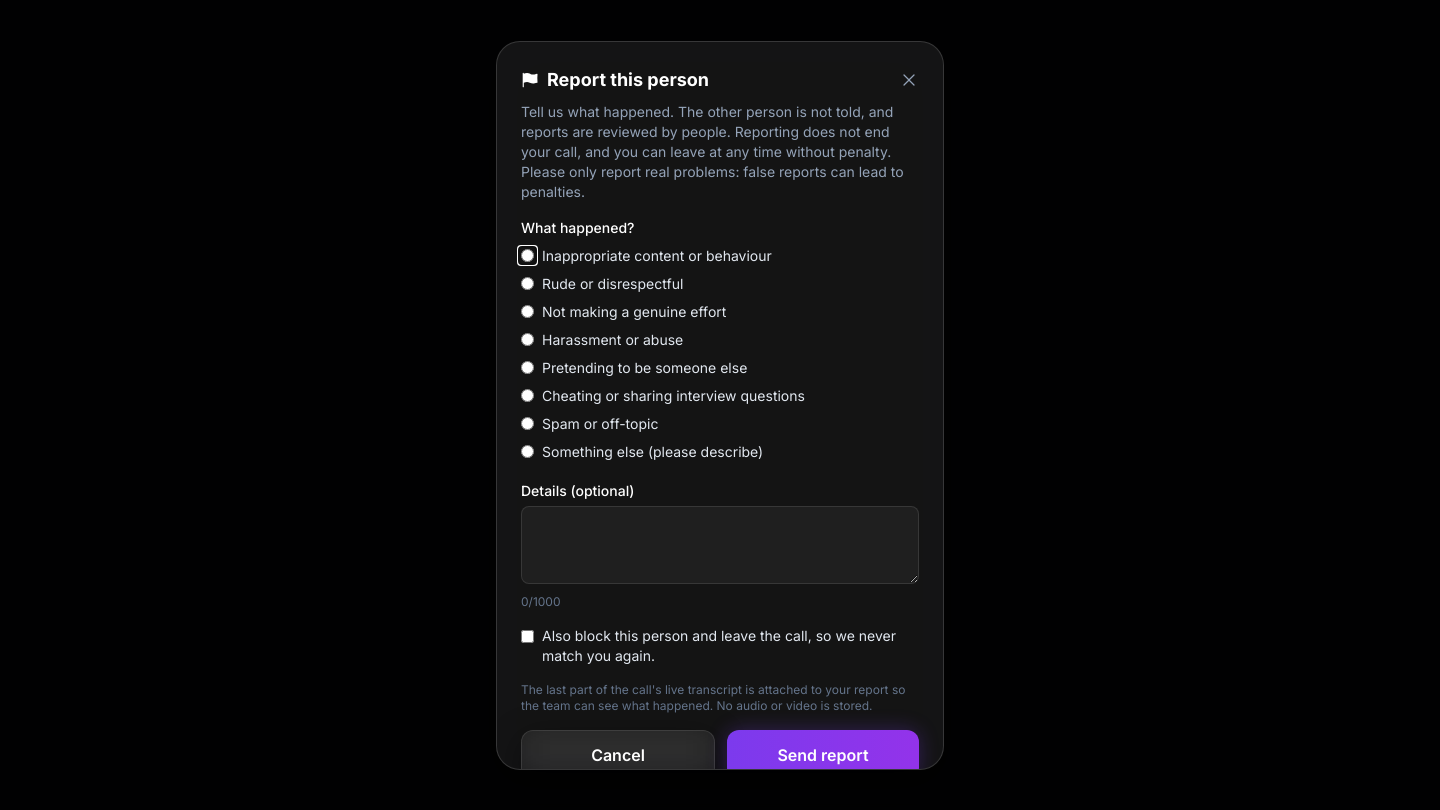
Test: ReportDialog › says the call is not ended, and only blocks (which leaves the call) if you tick the box
Expected: the text "Reporting does not end your call" is shown, [521, 102, 904, 200]
Expected: the checkbox labelled "Also block this person" is not checked, [521, 630, 534, 642]
Click the radio button labelled "Rude or disrespectful" at (528, 284), box [521, 277, 534, 290]
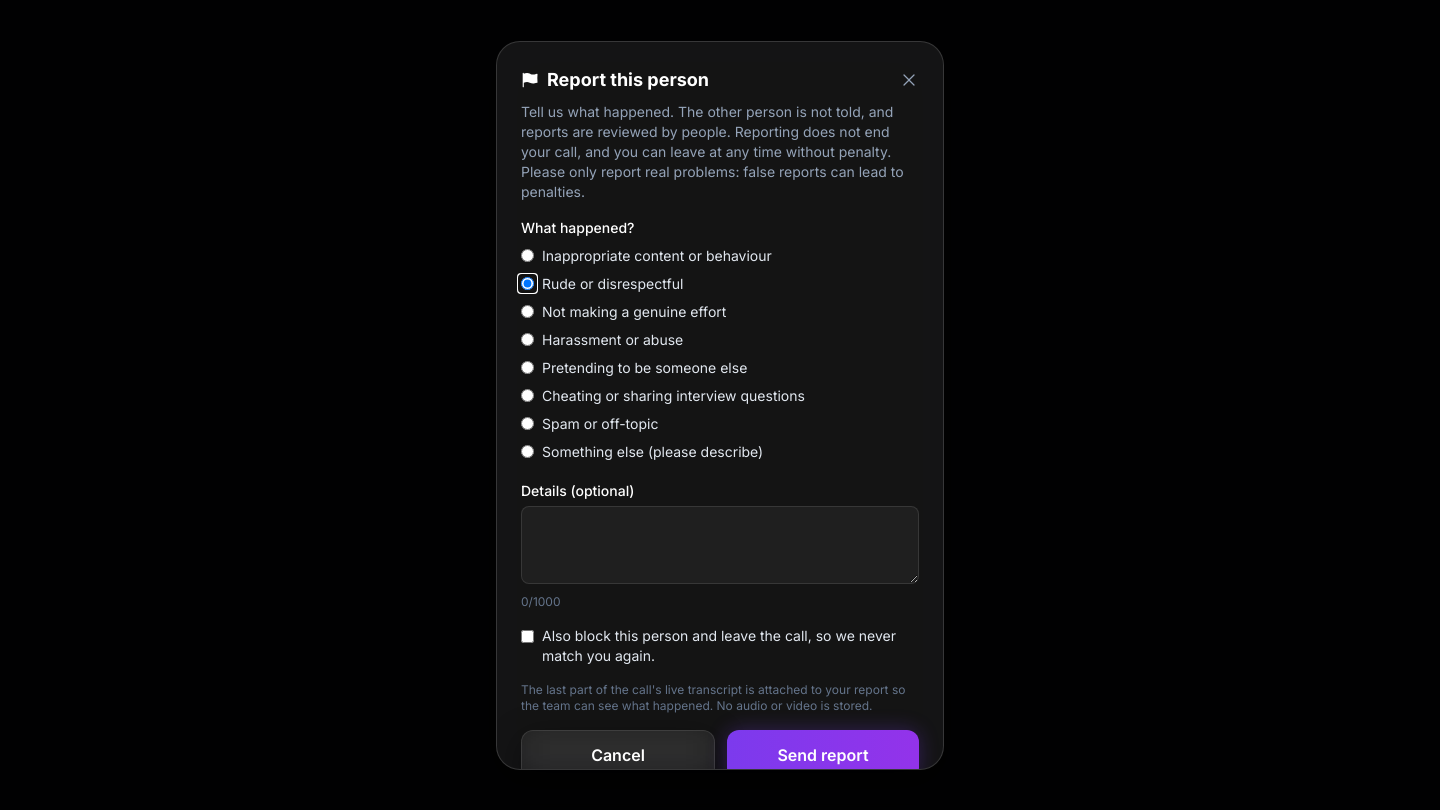
Click the checkbox labelled "Also block this person" at (528, 636), box [521, 630, 534, 642]
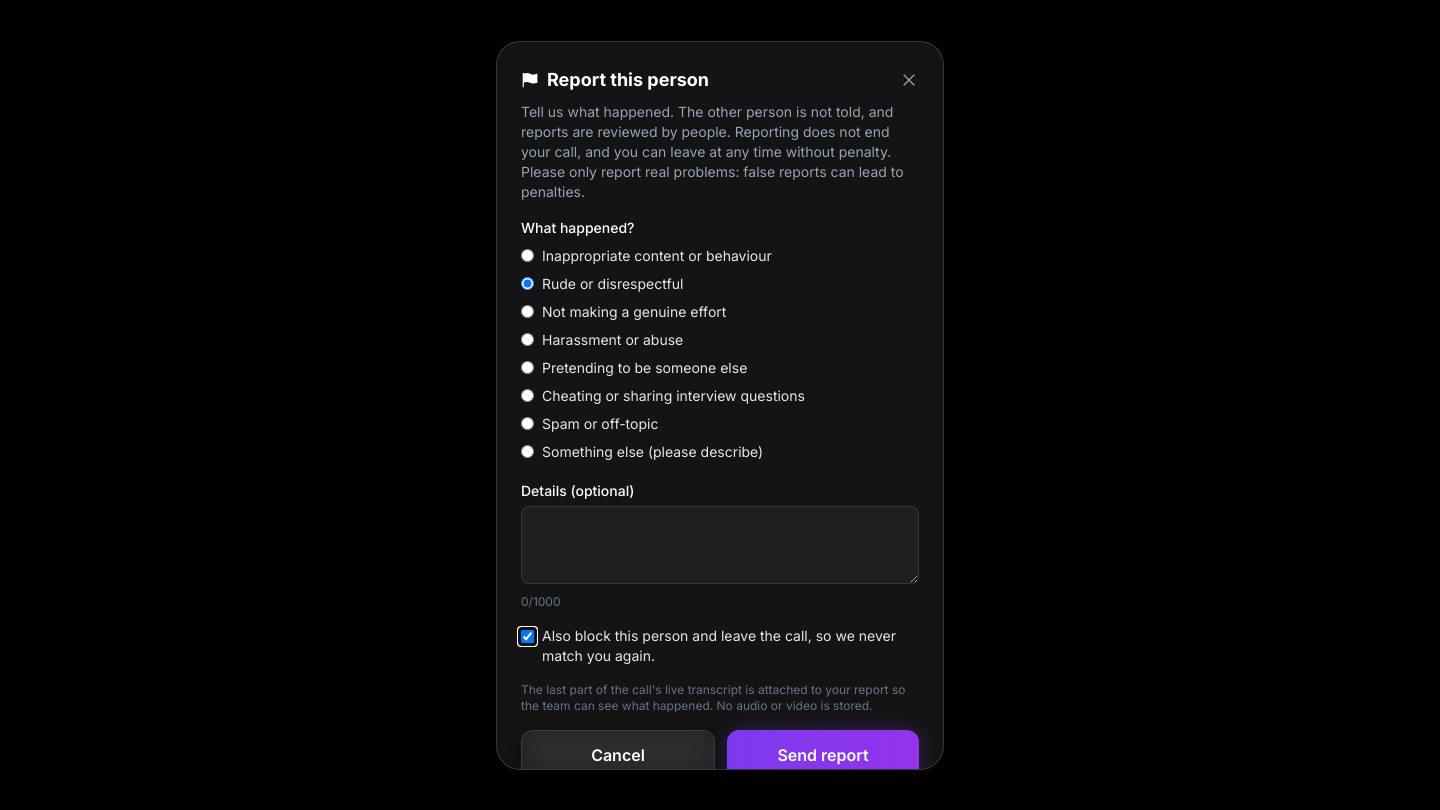
Click the button "Send report" at (823, 754), box [727, 730, 919, 780]
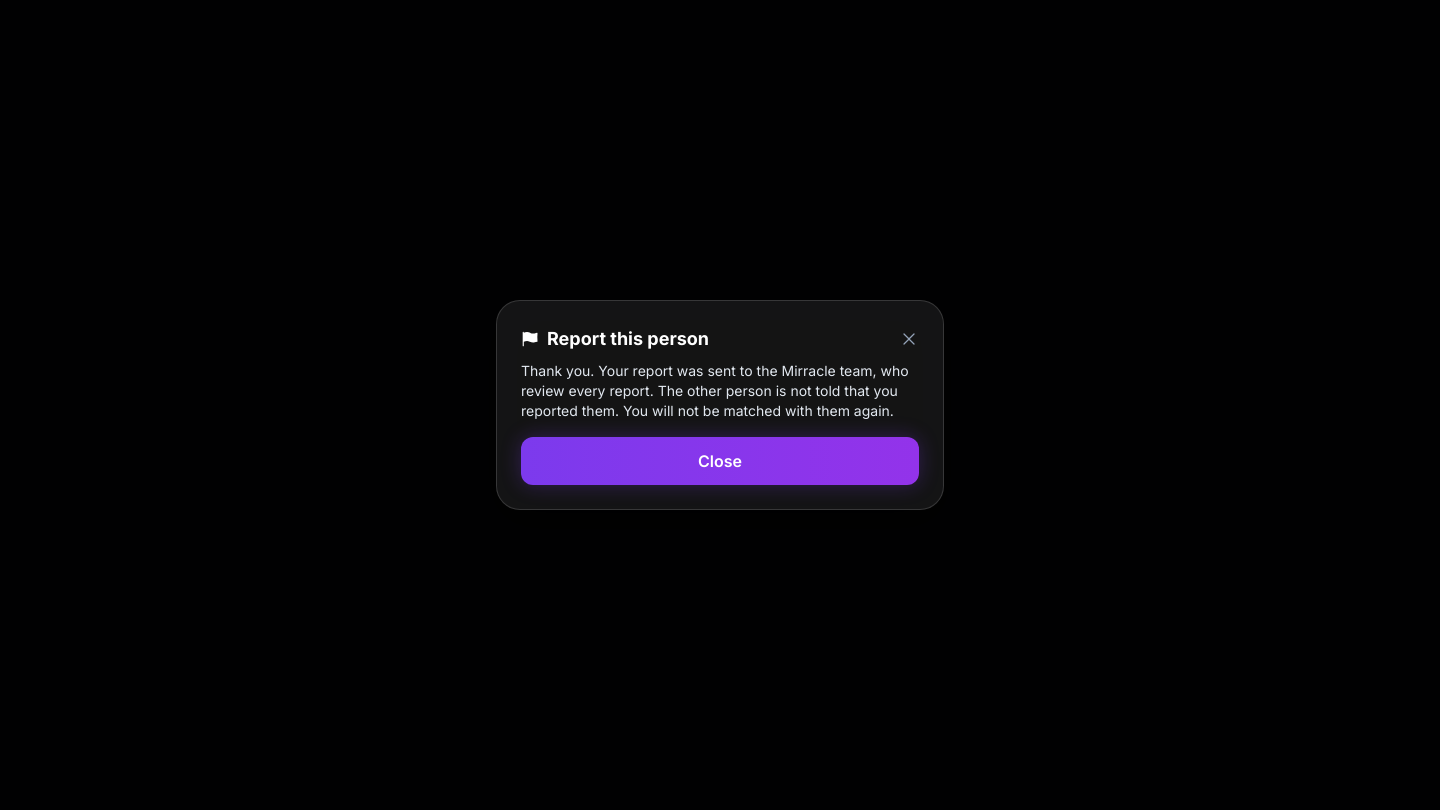
Expected: the message is shown, [521, 361, 919, 485]
Expected: the text "will not be matched with them again" is shown, [619, 402, 894, 419]
